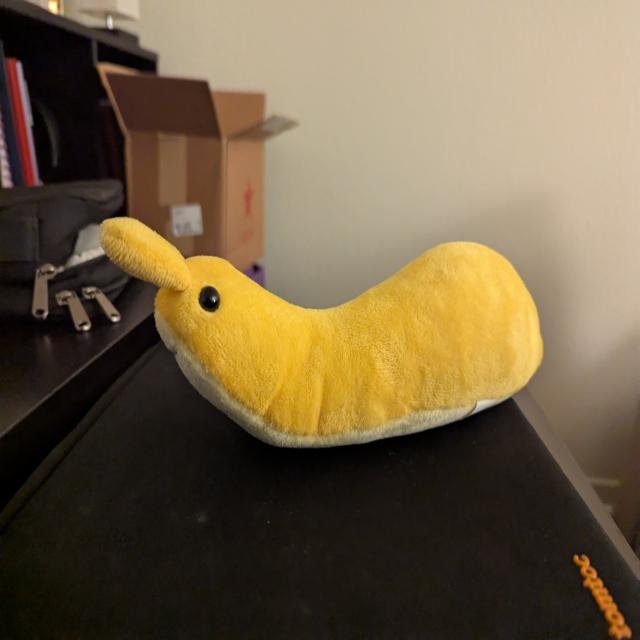banana-slug-toy: (92, 190, 559, 461)
